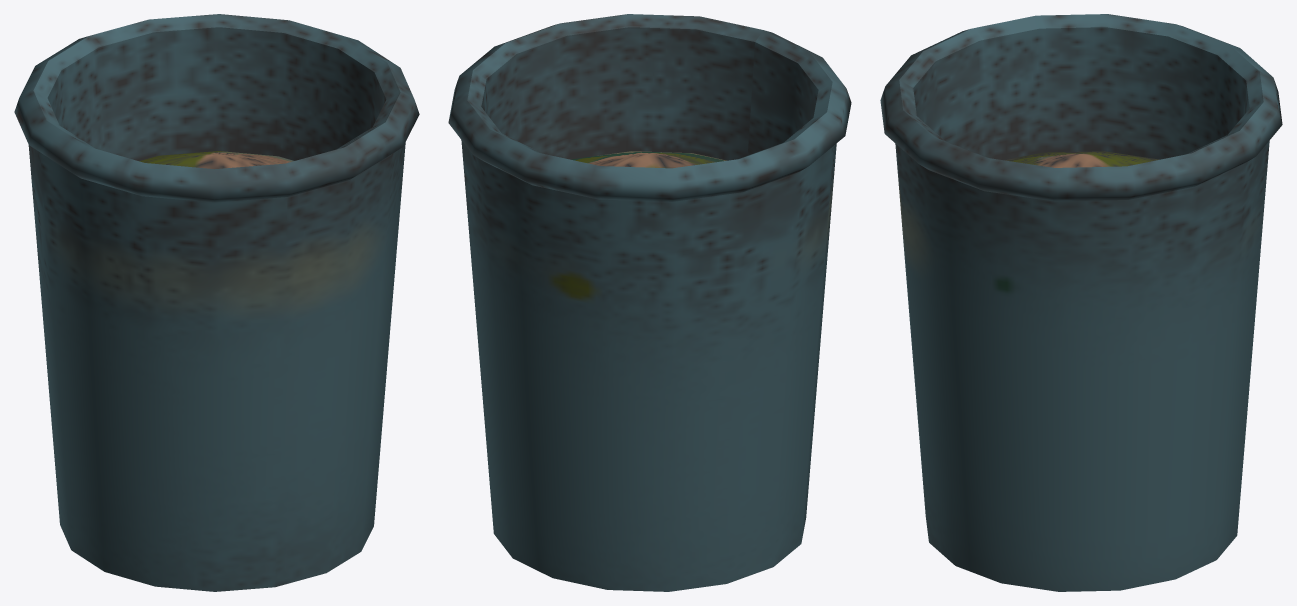
Rendered from basura.fbx.
3 views of the same model, side by side, from view 1: azimuth 30°, elevation 25°; view 2: azimuth 150°, elevation 25°; view 3: azimuth 270°, elevation 25° (orthographic).
Parts seen in each view (by area): view 1: Cylinder.005; view 2: Cylinder.005; view 3: Cylinder.005.
Boxes of the visible parts, box(x1,y1,x2,y2) form: Cylinder.005: box(14, 14, 419, 591); Cylinder.005: box(448, 14, 851, 591); Cylinder.005: box(880, 14, 1282, 591).
Size of the model in its own units: 85.02 by 102 by 85.02.
